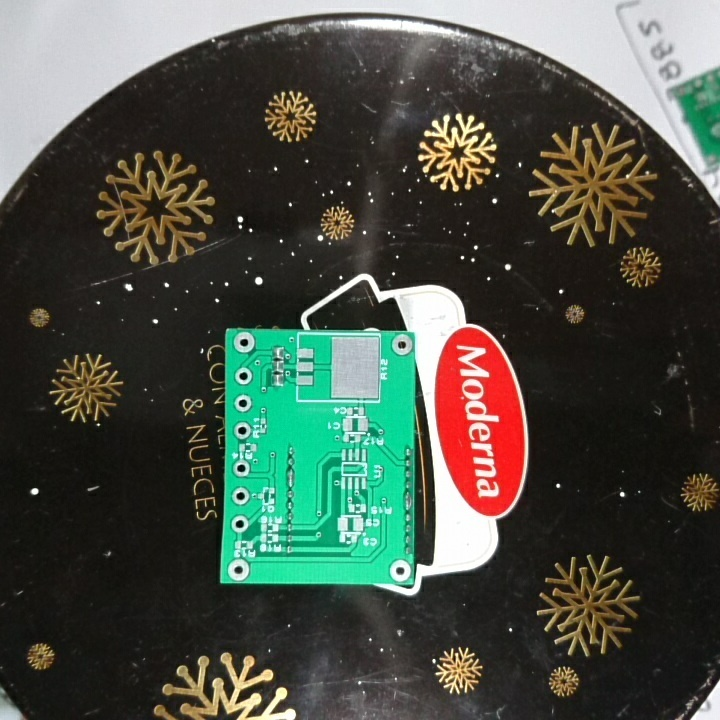F: (231, 329, 257, 356), (225, 558, 252, 582), (388, 558, 412, 583), (390, 333, 413, 357), (232, 393, 255, 415), (232, 364, 254, 386), (231, 457, 252, 480), (232, 420, 253, 442), (229, 514, 251, 535), (230, 485, 251, 506)
P: (284, 466, 298, 490), (401, 490, 414, 514)
